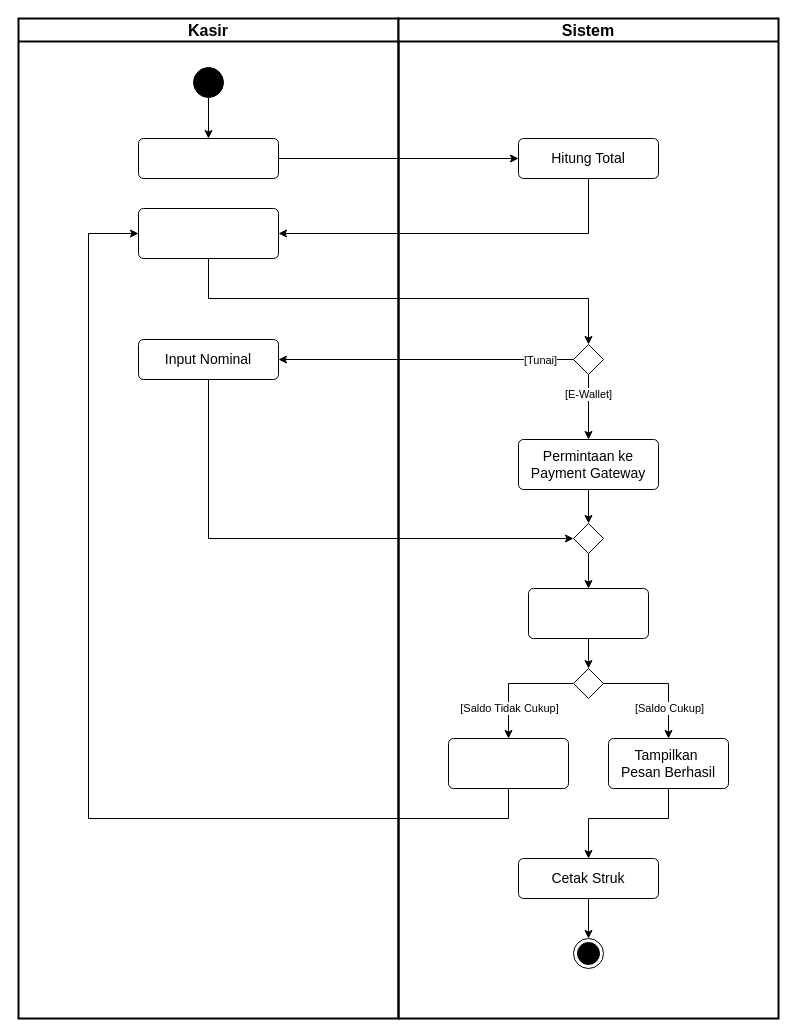
Some shapes in this 796 by 1036 pixel diagram are drawn without their labels. Here are the shapes that lost their labels. From the top down, the centre of each, then its label:
(208,158): Scan Produk
(208,233): Pilih Metode Pembayaran
(588,613): Validasi Pembayaran
(508,763): Tampilkan Pesan Gagal
